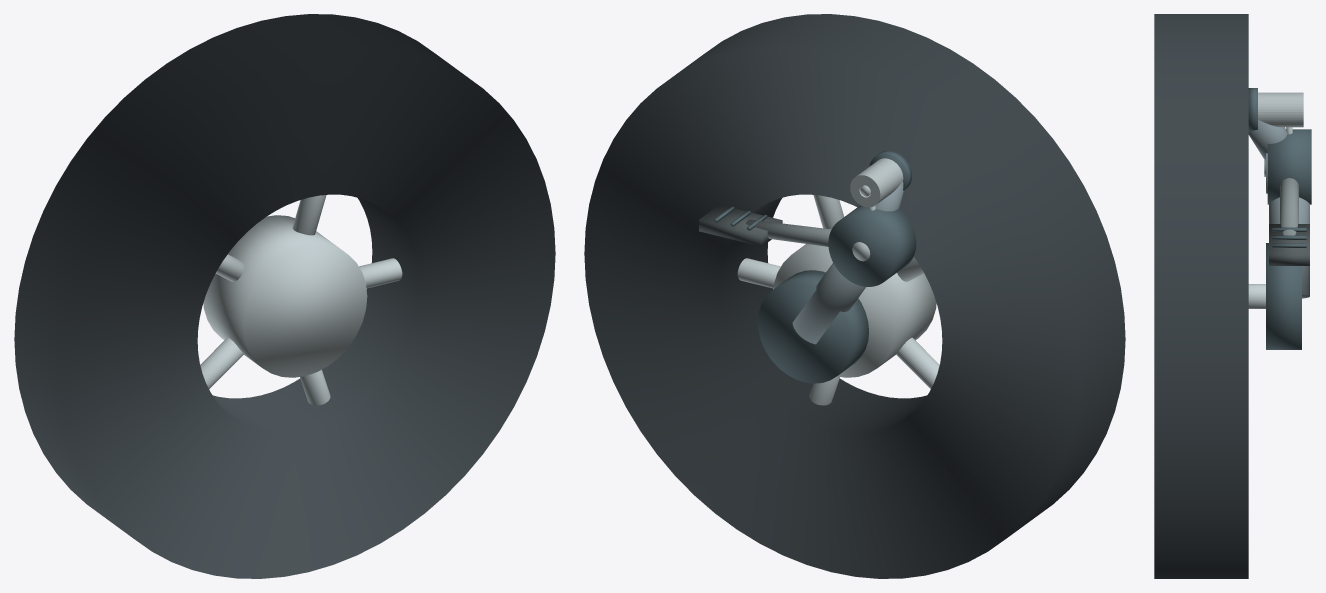
Rendered from wheel-rear-left-l.glb.
The picture shows the model from 3 angles, left to right: view 1: azimuth 30°, elevation 25°; view 2: azimuth 150°, elevation 25°; view 3: azimuth 270°, elevation 25°; orthographic projection.
Parts seen in each view (by area): view 1: RL_tire.008, RL_sealed_hub.008, RL_spoke_3.008, RL_spoke_1.008, RL_spoke_0.008, RL_spoke_4.008; view 2: RL_tire.008, RL_brake_backplate.008, RL_sealed_hub.008, compact_rear_elastomer_case_-1.008, aligned_short_rear_arm_-1.008, V46_brake_tread.009, rear_load_spigot_-1.011, V46_brake_lever.009, RL_spoke_3.008, RL_spoke_0.008, RL_spoke_1.008; view 3: RL_tire.008, RL_brake_backplate.008, compact_rear_elastomer_case_-1.008, rear_load_spigot_-1.011, V46_brake_tread.009, V46_brake_lever.009, aligned_short_rear_arm_-1.008, fixed_rear_module_root_-1.011, RL_fixed_axle.008, rear_module_shoulder_-1.011.
Part boxes in pixels (x1,y1,x2,y2): RL_tire.008: [14, 14, 555, 578]; RL_sealed_hub.008: [203, 215, 367, 377]; RL_spoke_3.008: [200, 337, 243, 388]; RL_spoke_1.008: [292, 195, 326, 235]; RL_spoke_0.008: [359, 258, 402, 288]; RL_spoke_4.008: [300, 369, 330, 405]; RL_tire.008: [584, 14, 1125, 578]; RL_brake_backplate.008: [757, 270, 868, 383]; RL_sealed_hub.008: [773, 244, 936, 377]; compact_rear_elastomer_case_-1.008: [828, 205, 916, 286]; aligned_short_rear_arm_-1.008: [792, 263, 865, 344]; V46_brake_tread.009: [699, 205, 782, 246]; rear_load_spigot_-1.011: [850, 158, 903, 207]; V46_brake_lever.009: [745, 219, 831, 246]; RL_spoke_3.008: [896, 337, 939, 388]; RL_spoke_0.008: [737, 258, 780, 288]; RL_spoke_1.008: [813, 195, 844, 229]; RL_tire.008: [1154, 14, 1248, 578]; RL_brake_backplate.008: [1266, 243, 1301, 349]; compact_rear_elastomer_case_-1.008: [1267, 129, 1311, 204]; rear_load_spigot_-1.011: [1258, 92, 1303, 127]; V46_brake_tread.009: [1269, 224, 1309, 265]; V46_brake_lever.009: [1280, 178, 1298, 235]; aligned_short_rear_arm_-1.008: [1269, 197, 1309, 298]; fixed_rear_module_root_-1.011: [1248, 120, 1287, 161]; RL_fixed_axle.008: [1248, 284, 1265, 308]; rear_module_shoulder_-1.011: [1248, 88, 1257, 131].
Bounding box in the file's own units: 0.36 × 0.36 × 0.1.
